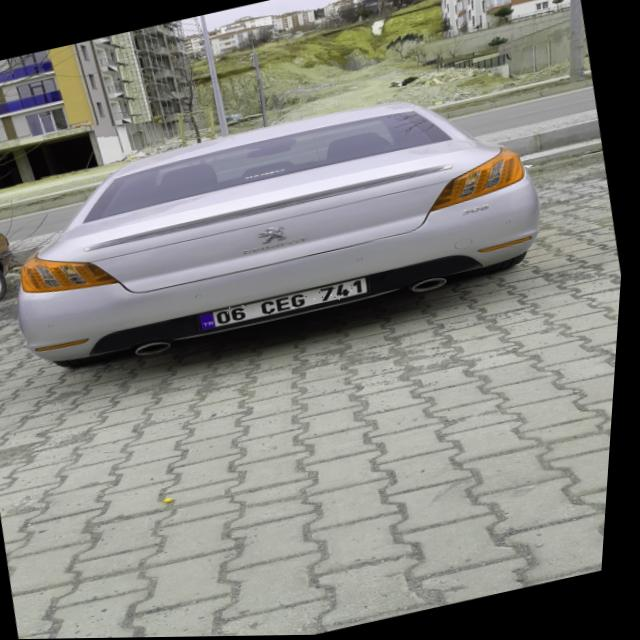license_plate: (201, 277, 374, 331)
